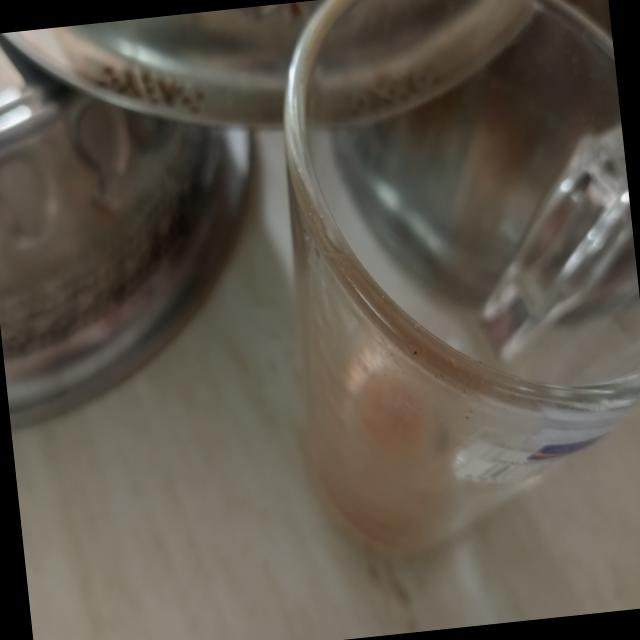glass-VX4N: (253, 0, 640, 569)
